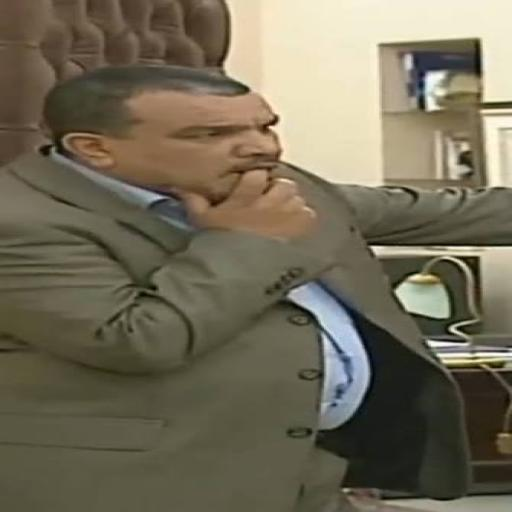slimane: (43, 65, 280, 202)
